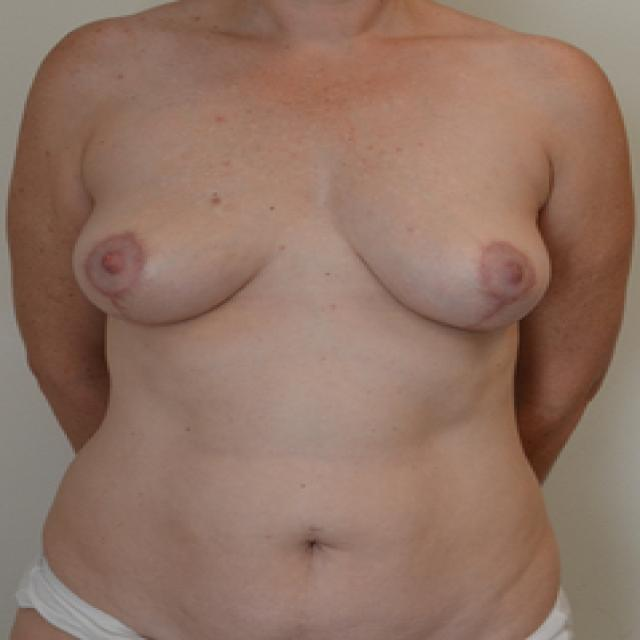Seno herido: (314, 120, 563, 348), (62, 120, 303, 341)
